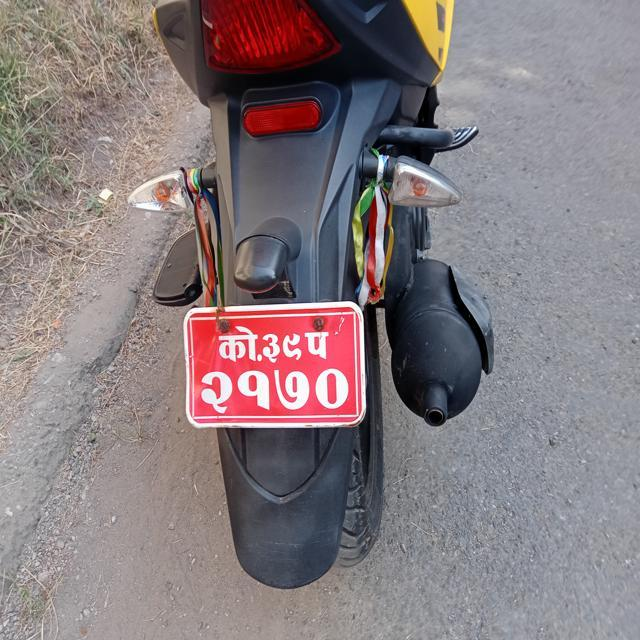license_plate: (165, 299, 389, 430)
